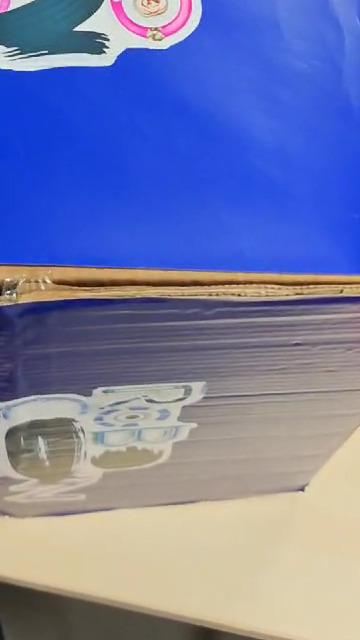B_R1: (0, 0, 335, 75)
